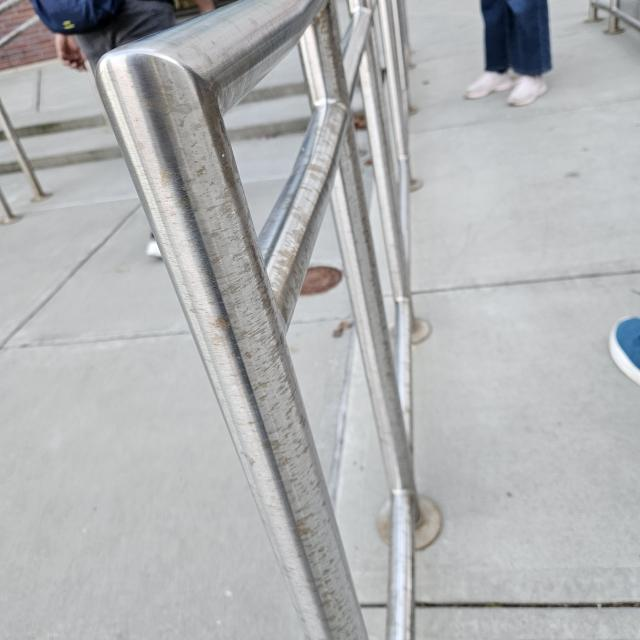Uniform Corrosion: (149, 81, 369, 640)
